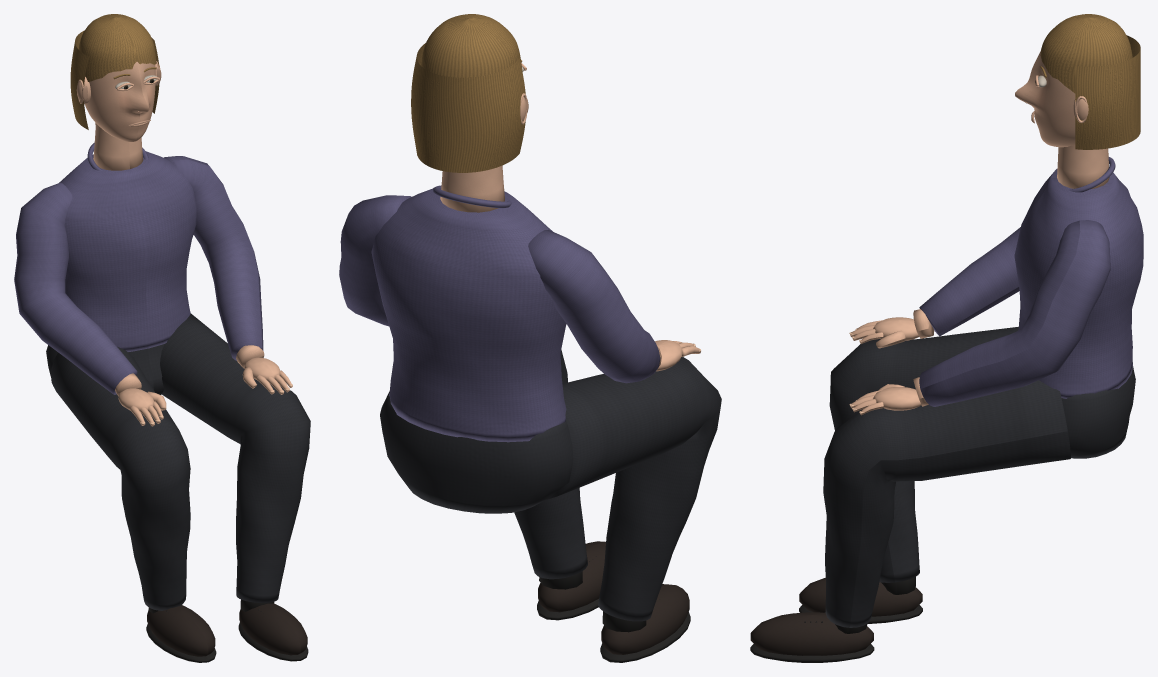
The model's file is 08_Iris_LOD1.glb.
The picture shows the model from 3 angles, left to right: view 1: azimuth 30°, elevation 25°; view 2: azimuth 150°, elevation 25°; view 3: azimuth 270°, elevation 25°; orthographic projection. The views are drawn at different scales.
Visible parts, largest first — view 1: top, trousers, skin, shoes, hair, face, sole; view 2: top, trousers, hair, shoes, skin, sole; view 3: trousers, top, hair, shoes, skin, face, sole.
Part boxes in pixels (x1=…): top: x1=14, y1=142, x2=263, y2=394; trousers: x1=46, y1=313, x2=310, y2=610; skin: x1=76, y1=61, x2=292, y2=426; shoes: x1=147, y1=603, x2=307, y2=656; hair: x1=70, y1=14, x2=159, y2=129; face: x1=85, y1=62, x2=155, y2=141; sole: x1=146, y1=599, x2=308, y2=662; top: x1=339, y1=185, x2=660, y2=442; trousers: x1=380, y1=350, x2=721, y2=621; hair: x1=411, y1=14, x2=525, y2=172; shoes: x1=538, y1=541, x2=689, y2=654; skin: x1=440, y1=63, x2=700, y2=371; sole: x1=537, y1=556, x2=690, y2=662; trousers: x1=823, y1=327, x2=1135, y2=627; top: x1=919, y1=157, x2=1143, y2=406; hair: x1=1040, y1=14, x2=1140, y2=149; shoes: x1=750, y1=577, x2=922, y2=655; skin: x1=850, y1=75, x2=1109, y2=415; face: x1=1015, y1=51, x2=1075, y2=147; sole: x1=750, y1=576, x2=922, y2=662.
Size of the model in its own units: 0.5906 by 1.34 by 0.7675.
12 materials, 12 textured.
